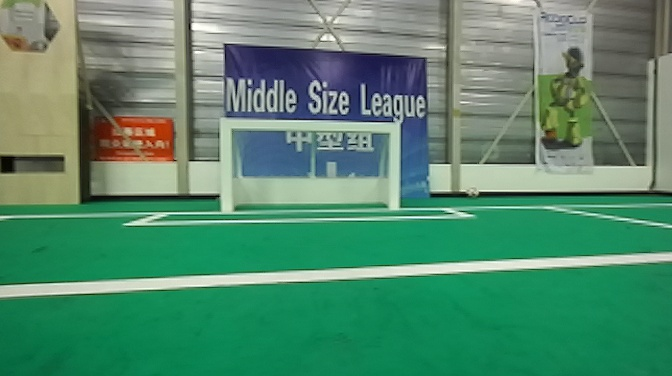ball: (465, 181, 488, 202)
goalpost: (384, 116, 412, 216), (213, 109, 238, 214)
